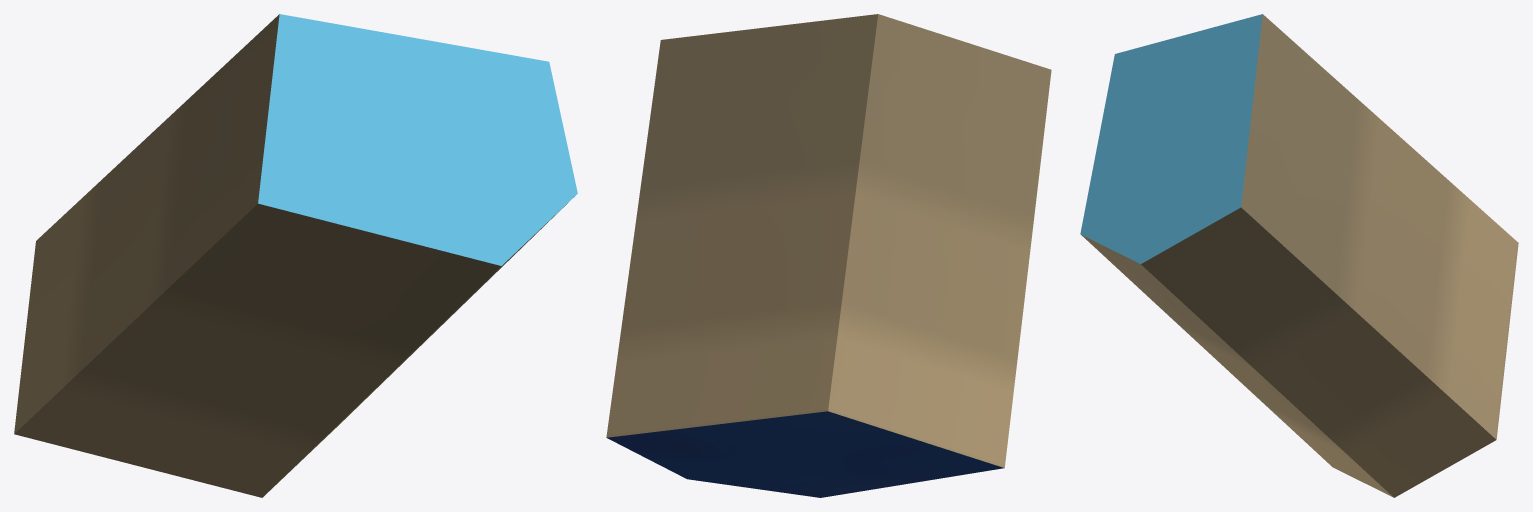
File: 068d_Macedonia.glb
3 views of the same model, side by side, from view 1: azimuth 30°, elevation 25°; view 2: azimuth 150°, elevation 25°; view 3: azimuth 270°, elevation 25° (orthographic). The views are drawn at different scales.
Visible parts, largest first — view 1: part_0; view 2: part_0; view 3: part_0.
Boxes of the visible parts, <box> form: part_0: <box>14,14,577,497</box>; part_0: <box>606,14,1051,497</box>; part_0: <box>1080,14,1518,497</box>.
Size of the model in its own units: 0.2261 by 0.2437 by 0.2183.
Materials: 1 (1 with a texture image).
